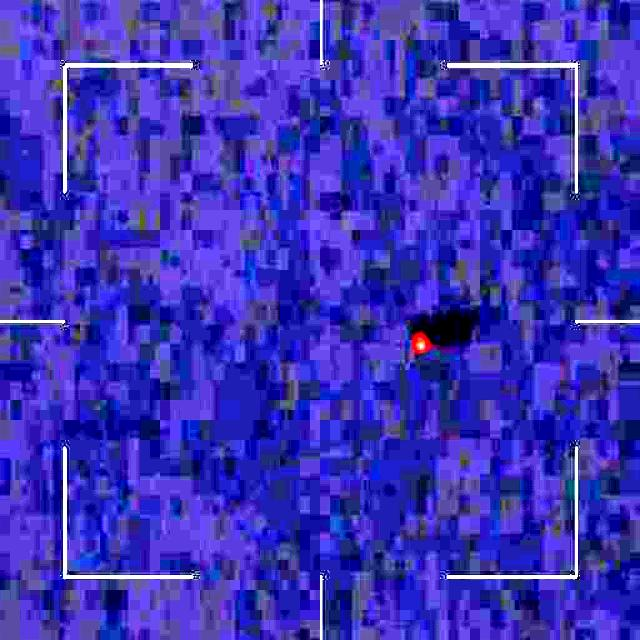bird: (410, 321, 441, 366)
